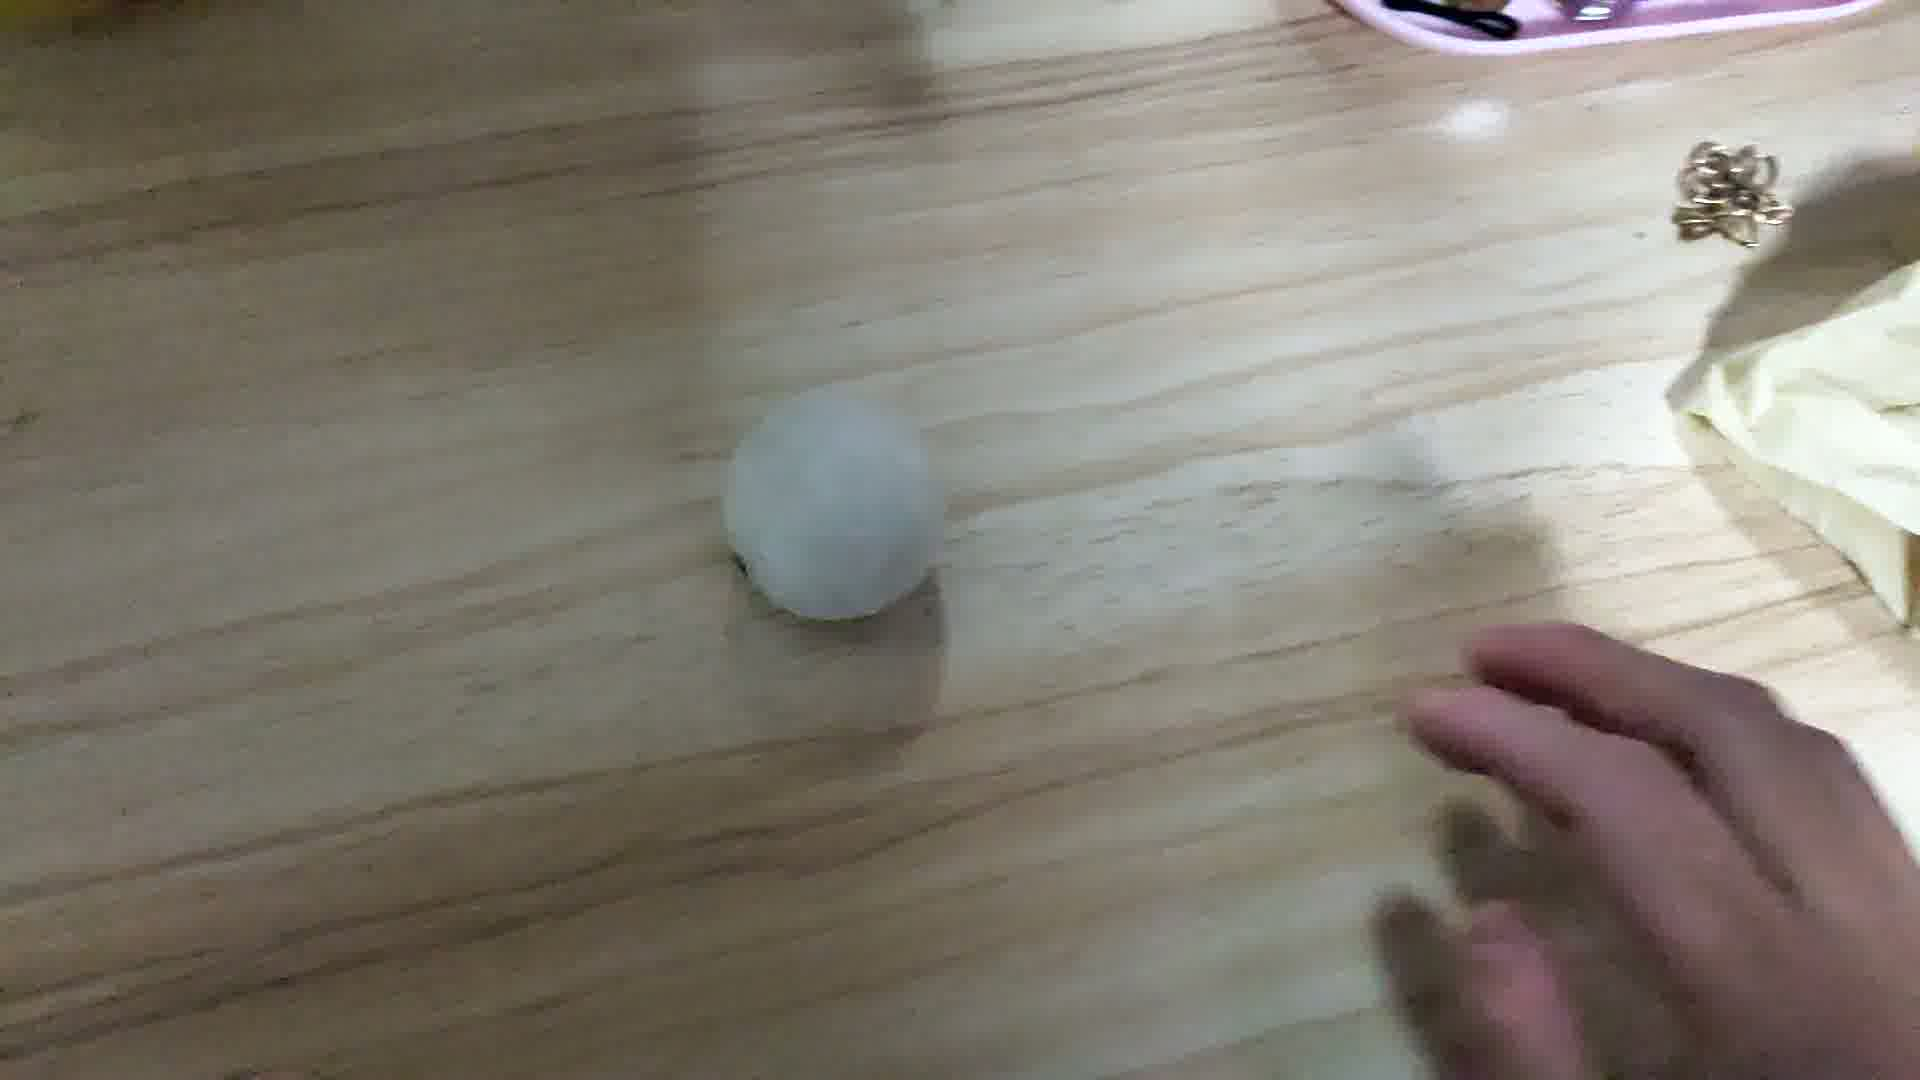Ball: (720, 386, 953, 621)
